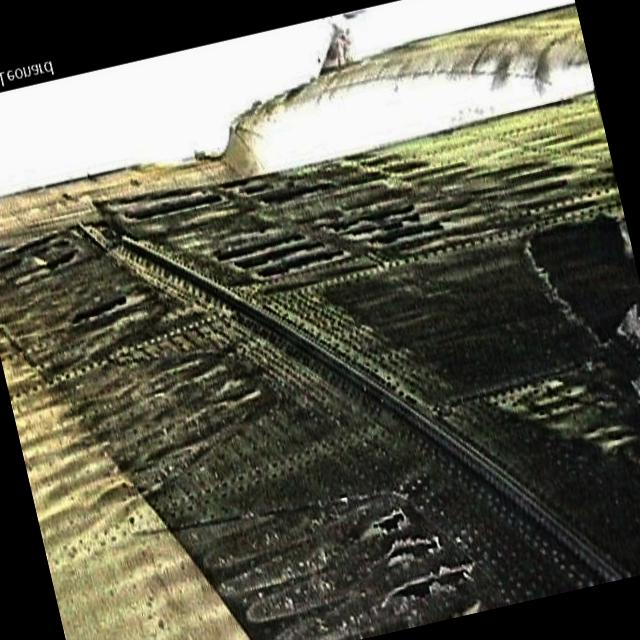crack: (348, 488, 489, 616)
